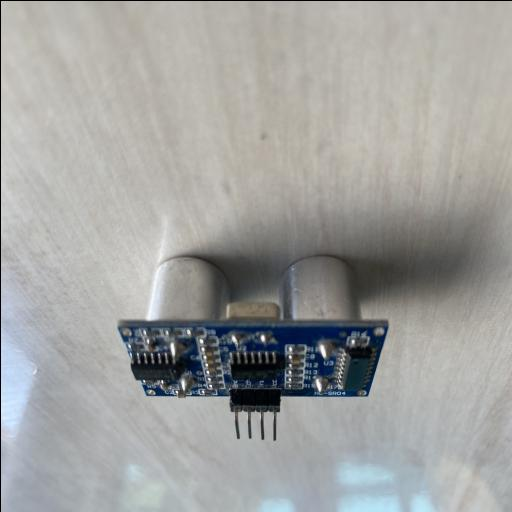Ultrasonic Sensor: (116, 254, 388, 442)
